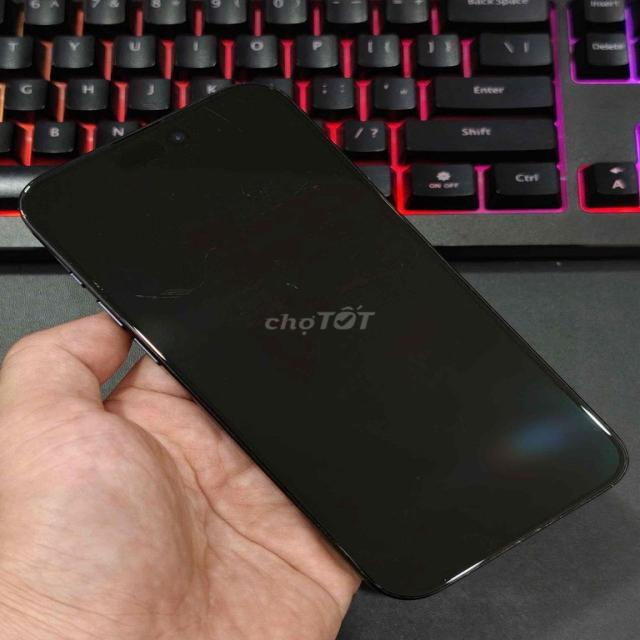scratch: (93, 219, 237, 320), (213, 149, 354, 229), (481, 493, 590, 569), (120, 93, 277, 145), (274, 270, 328, 312)
